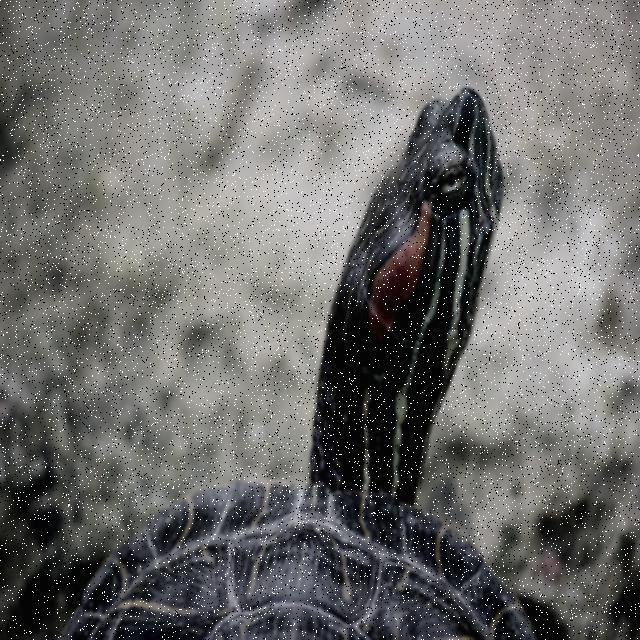tortoise: (1, 76, 584, 640)
